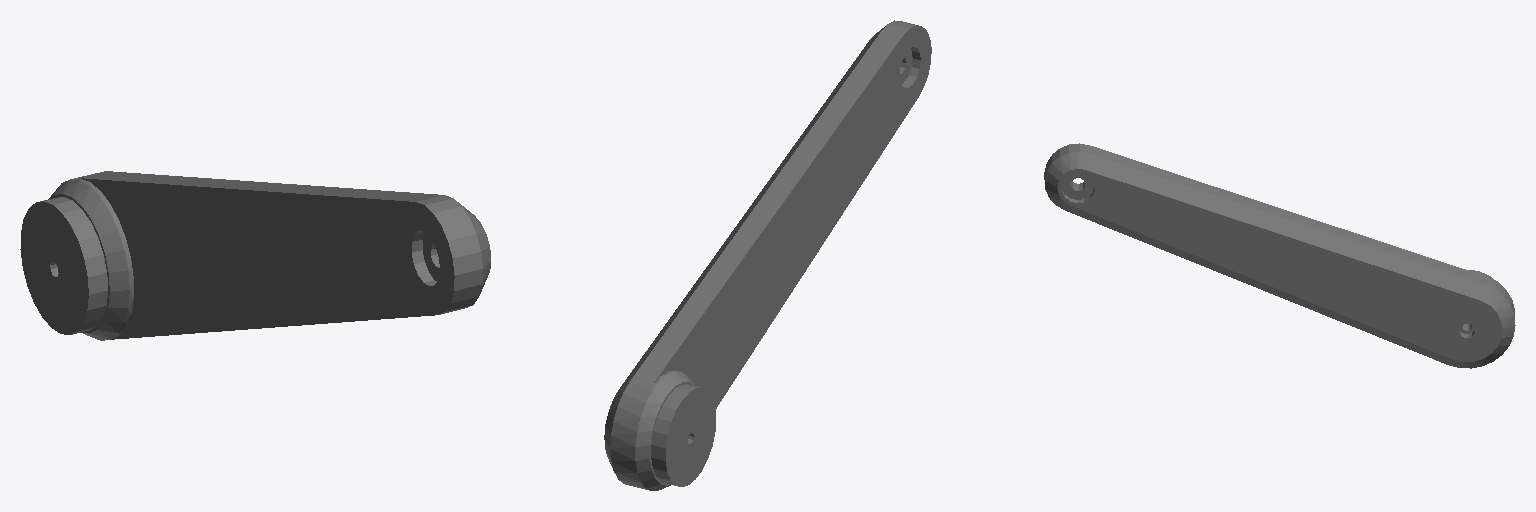
The robot description file, URDF, robot "test_robot2":
<?xml version="1.0"?>
<robot name="test_robot2">
  <link name="back_left_upperleg">
  <visual>
    <origin xyz="0.021509 -0.081911 0.097135" rpy="0 0 0"/> 
    <geometry>
      <mesh filename="back_left_upperleg.stl" scale="0.001 0.001 0.001"/>
    </geometry>
    <material name="steel_upperleg">
      <color rgba="0.5 0.5 0.5 1"/>
    </material>
  </visual>
  <inertial>
    <mass value="0.310908"/> 
    <origin xyz="0.021509 -0.081911 0.097135" rpy="0 0 0"/>
    <inertia 
        ixx="0.000609" 
        ixy="0.00001346" 
        ixz="-0.000005444" 
        iyy="0.0001013" 
        iyz="0.0002009" 
        izz="0.0005167"/>
  </inertial>
  <collision>
    <origin xyz="0.021509 -0.081911 0.097135" rpy="0 0 0"/> 
    <geometry> 
      <mesh filename="back_left_upperleg.stl" scale="0.001 0.001 0.001"/>
    </geometry>
  </collision>
</link>
</robot>

--- Facts derived from the render (not from the file) ---
Views: 3 orthographic renders of the robot side by side, from view 1: azimuth 30°, elevation 25°; view 2: azimuth 150°, elevation 25°; view 3: azimuth 270°, elevation 25°.
Model test_robot2 with 1 links and 0 joints (none), rooted at back_left_upperleg, posed all joints at 0.
Links seen in each view (by area): view 1: back_left_upperleg; view 2: back_left_upperleg; view 3: back_left_upperleg.
Boxes of the visible links, box(x1,y1,x2,y2) form: back_left_upperleg: box(20, 171, 490, 340); back_left_upperleg: box(604, 20, 931, 490); back_left_upperleg: box(1044, 143, 1515, 368).
Bounding box of the posed robot: 0.018 × 0.146 × 0.0742 m (x, y, z).
Meshes: 1 distinct files referenced, 1 mesh visuals loaded (1 binary STL).